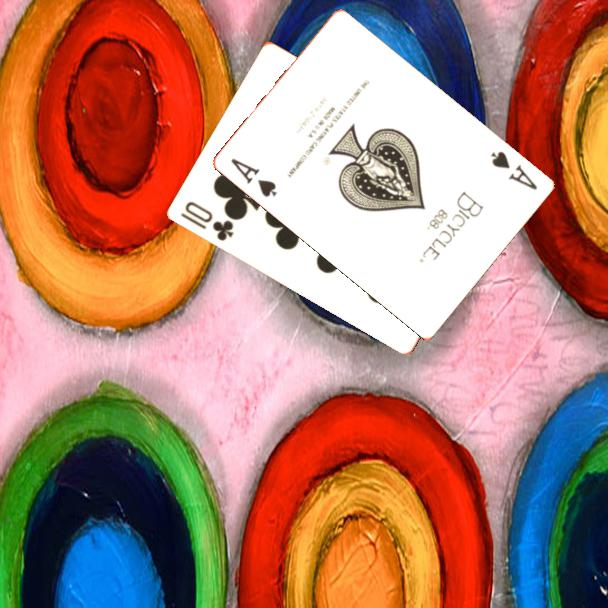c10: (177, 198, 237, 244)
s01: (488, 147, 541, 193), (228, 155, 281, 200)
